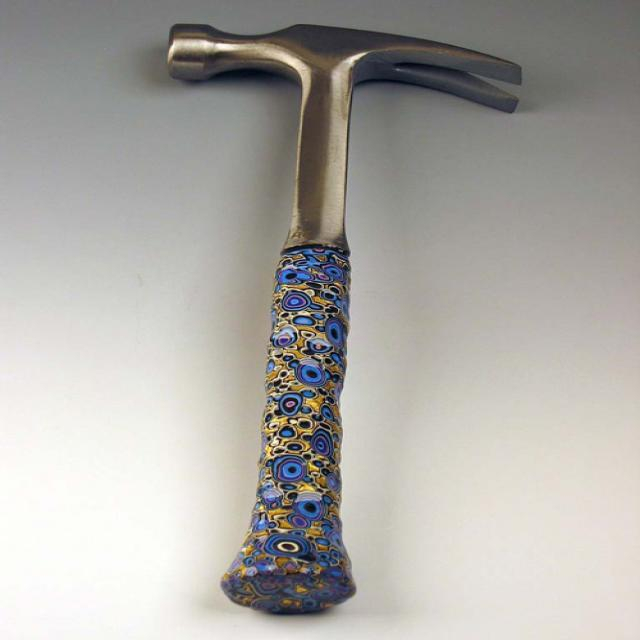hammer: (142, 6, 560, 628)
